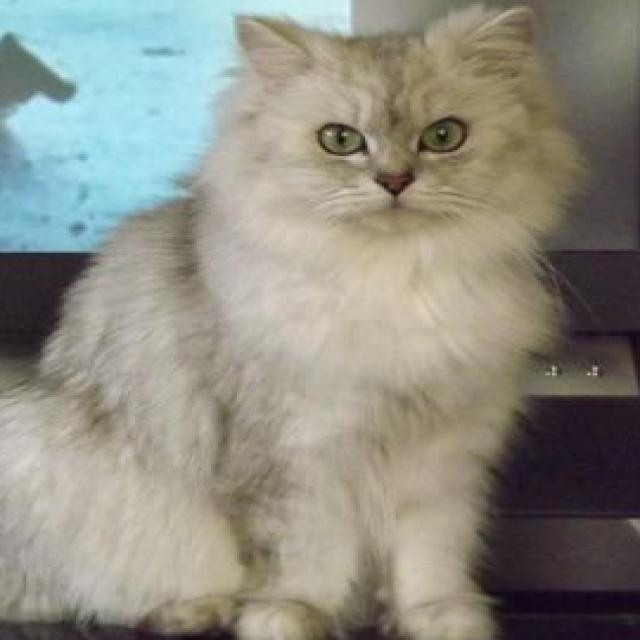Persian: (0, 0, 581, 640)
